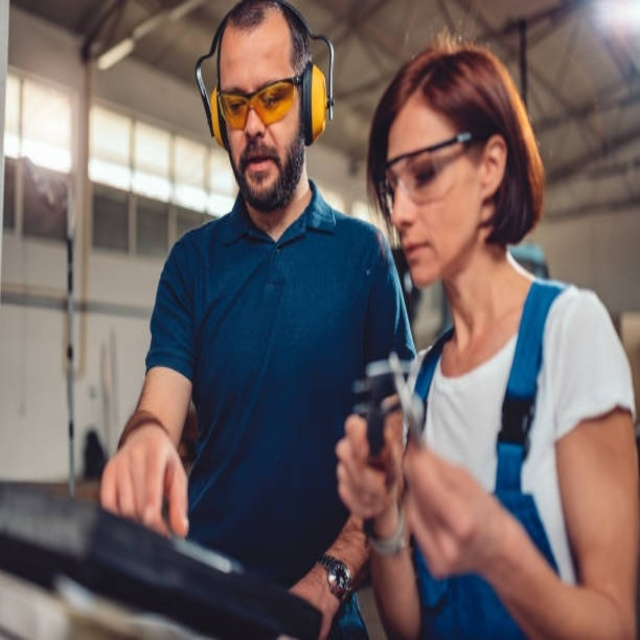Gafas: (379, 131, 485, 215), (216, 74, 306, 131)
Sin_guantes: (394, 436, 495, 580), (99, 426, 189, 538), (333, 403, 406, 526)
Sin_mascara: (398, 224, 442, 284), (235, 141, 281, 190)
